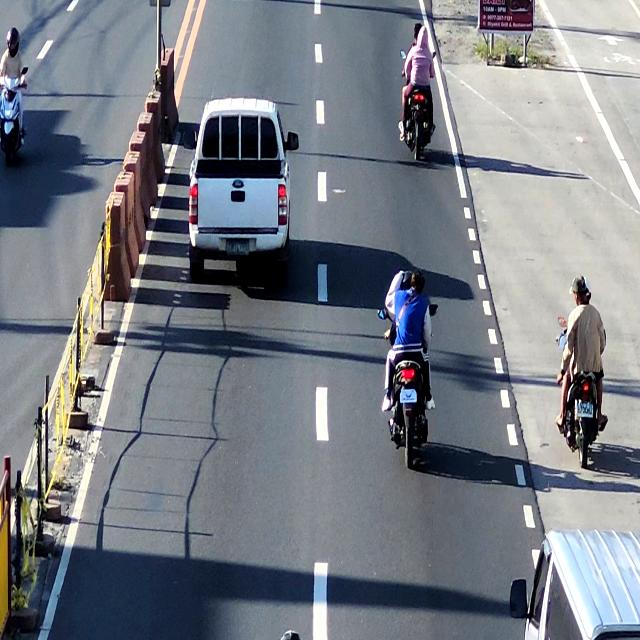Car: (190, 100, 293, 285), (517, 520, 640, 640)
License-Plate: (224, 234, 249, 259), (397, 384, 419, 404), (574, 398, 594, 419)
Motorcycle: (384, 274, 434, 469), (560, 268, 600, 474), (398, 29, 437, 161)
